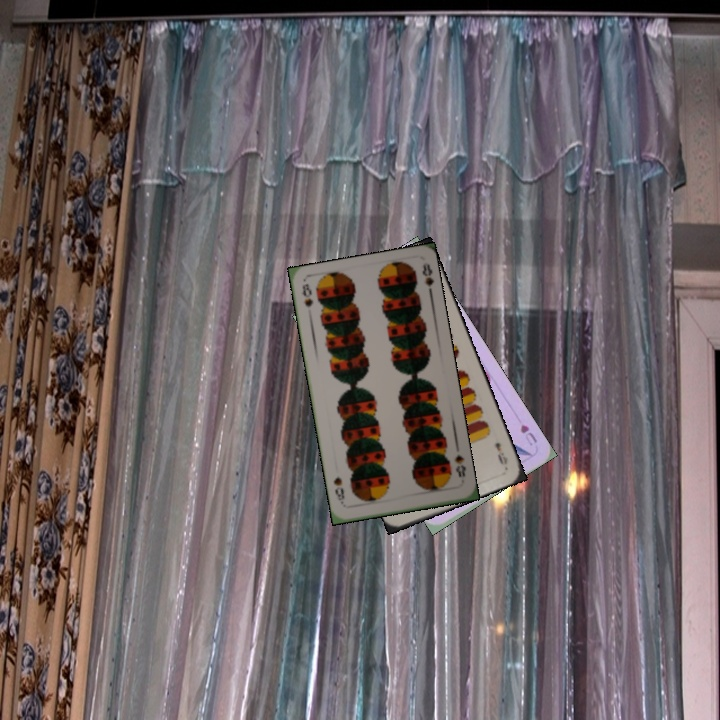E9: (491, 438, 510, 467)
HU: (516, 421, 540, 448)
S8: (297, 280, 316, 310), (451, 451, 469, 480)
